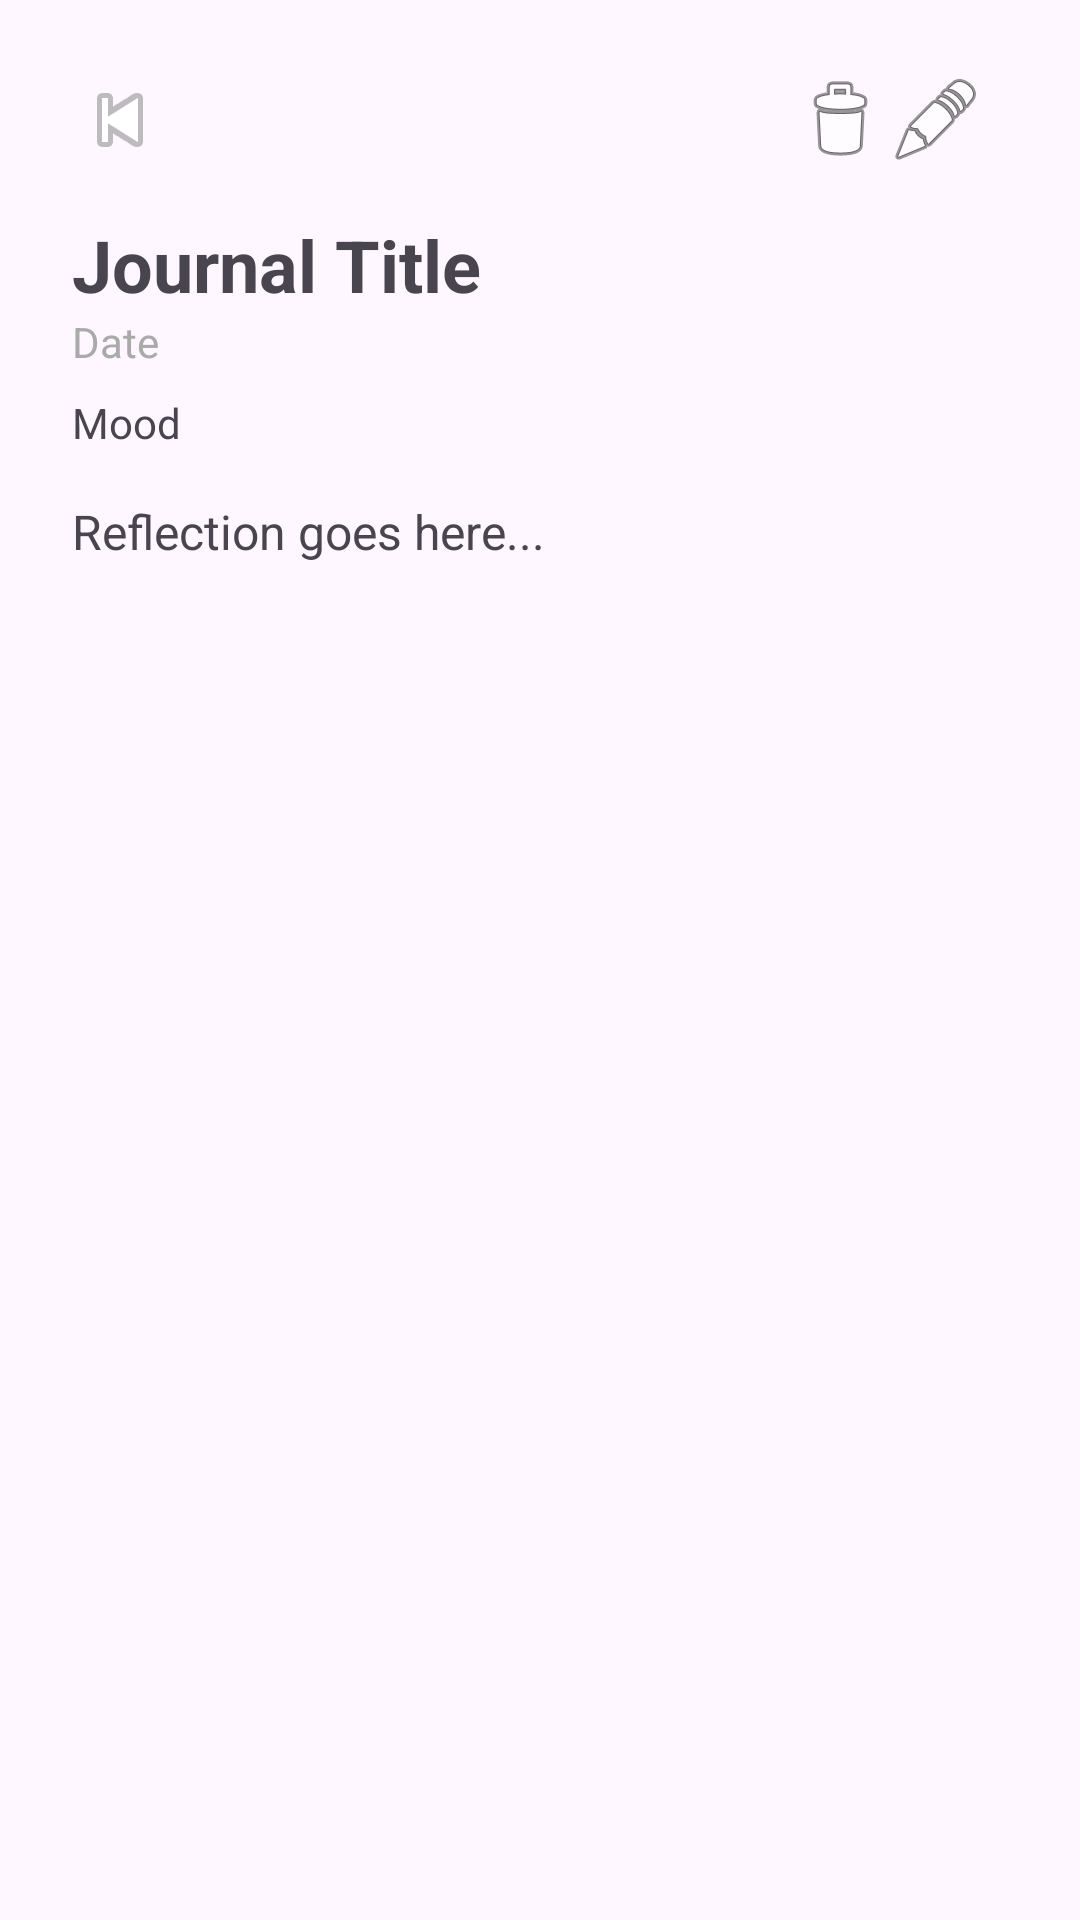

Icons on this 1080px x 1920px Android screen, each with the point to tap as [x,y]:
Back: [120,120]
delete: [840,118]
edit: [935,119]
